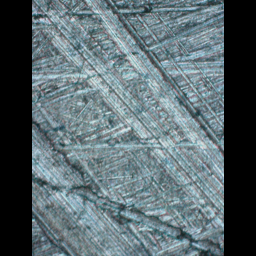d: (32, 0, 223, 233), (32, 112, 152, 254)
